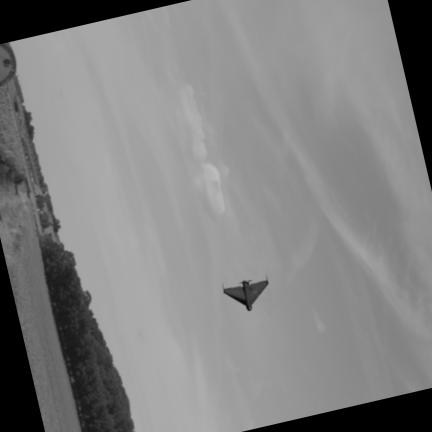Shahed: (222, 276, 268, 310)
